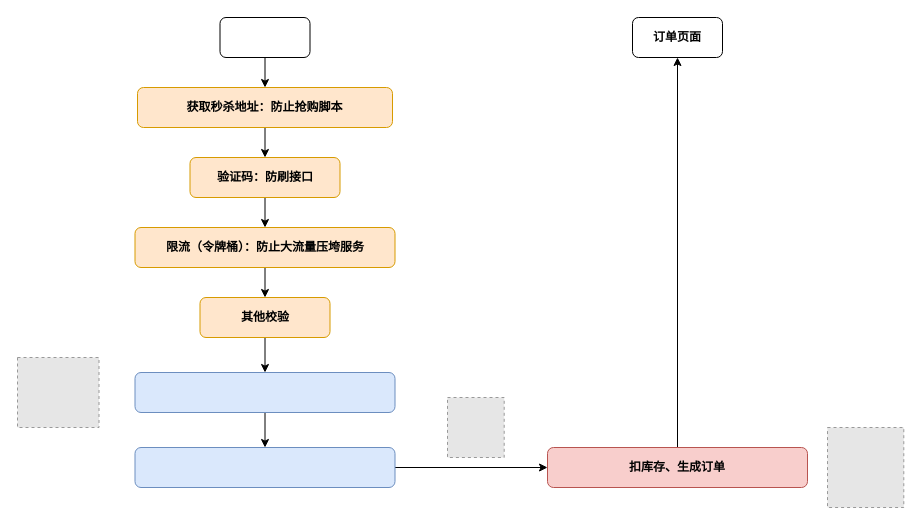
This 922x525 diagram has some shape labels left out. Grey dashed boxes stand in for pictures. The shapes that lost their labels are listed below. From the top down, each one's centre as x and y in pixels, then its label:
At point (264, 37): "秒杀开始".
At point (264, 392): "Redis预减库存：防超卖".
At point (264, 467): "发送消息给MQ：异步下单".
